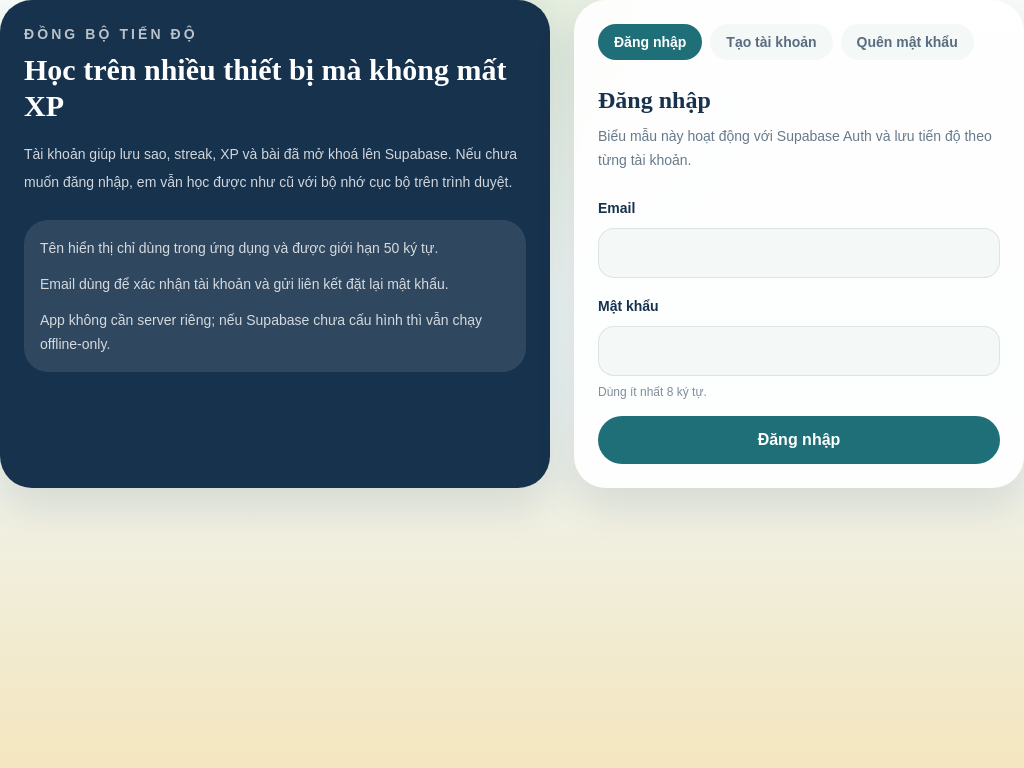
Test: AuthRoute › chế độ tạo tài khoản gọi signUp và giữ nguyên trang khi cần xác nhận email
Click the button "Tạo tài khoản". click: click(771, 42)
box: [710,24,832,60]
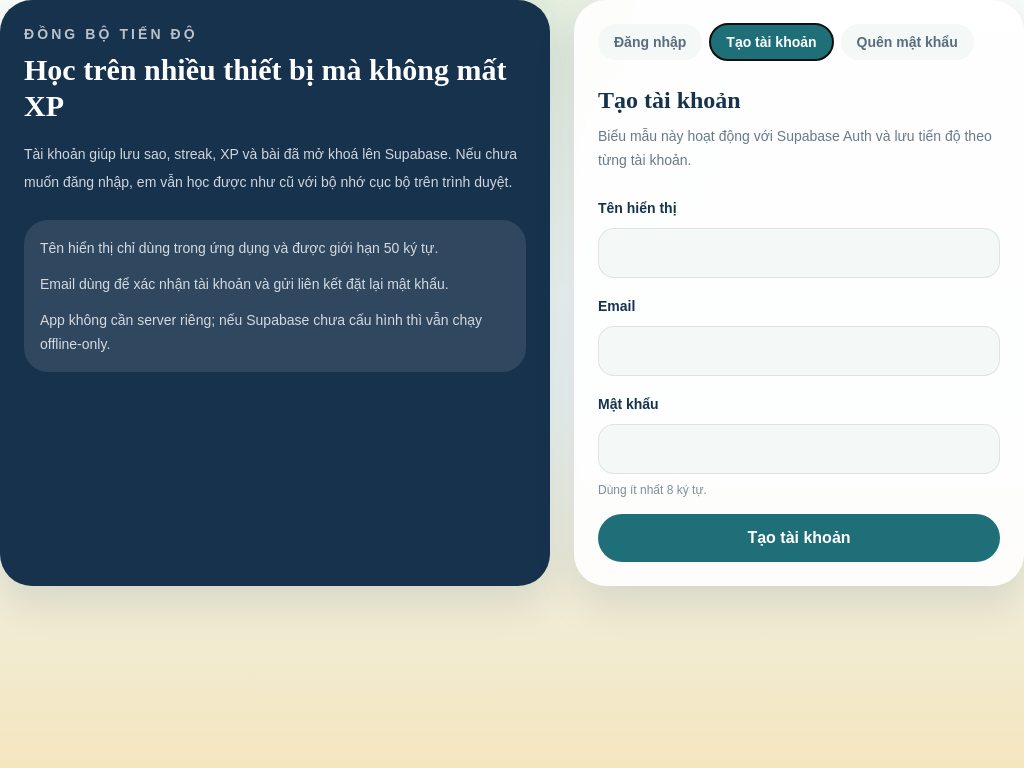
Type "Lan Anh" into the field labelled "Tên hiển thị". click: (799, 253)
box: [598,228,1000,278]
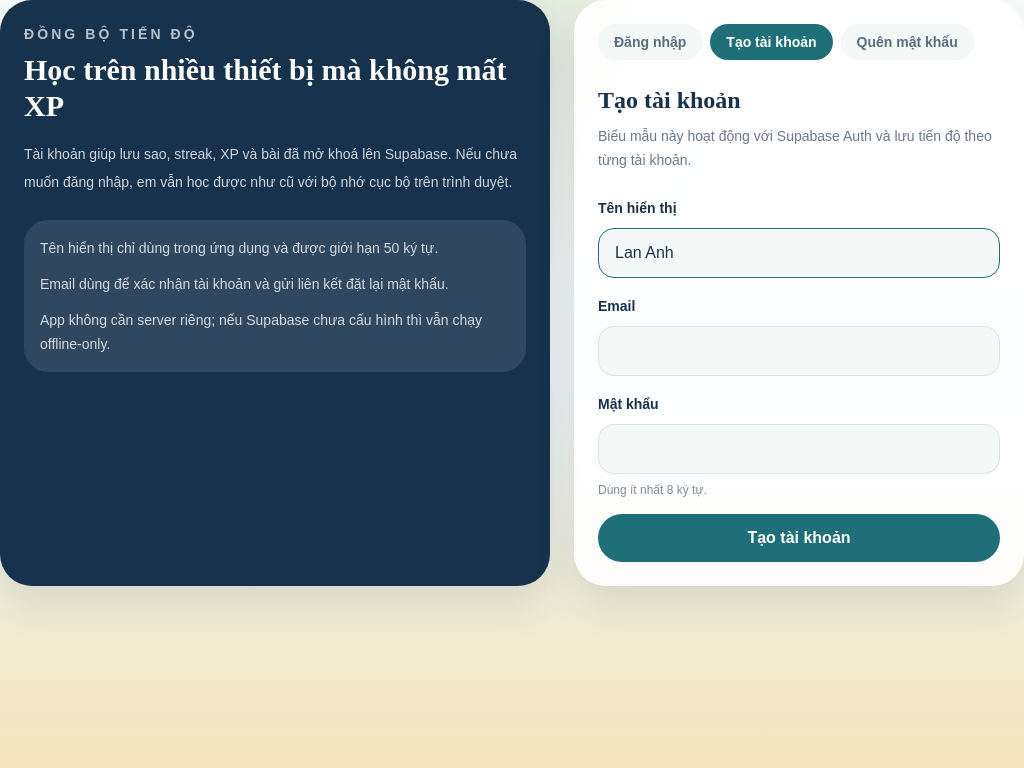
Type "lan.anh@example.com" into the field labelled "Email". click: (799, 351)
box: [598,326,1000,376]
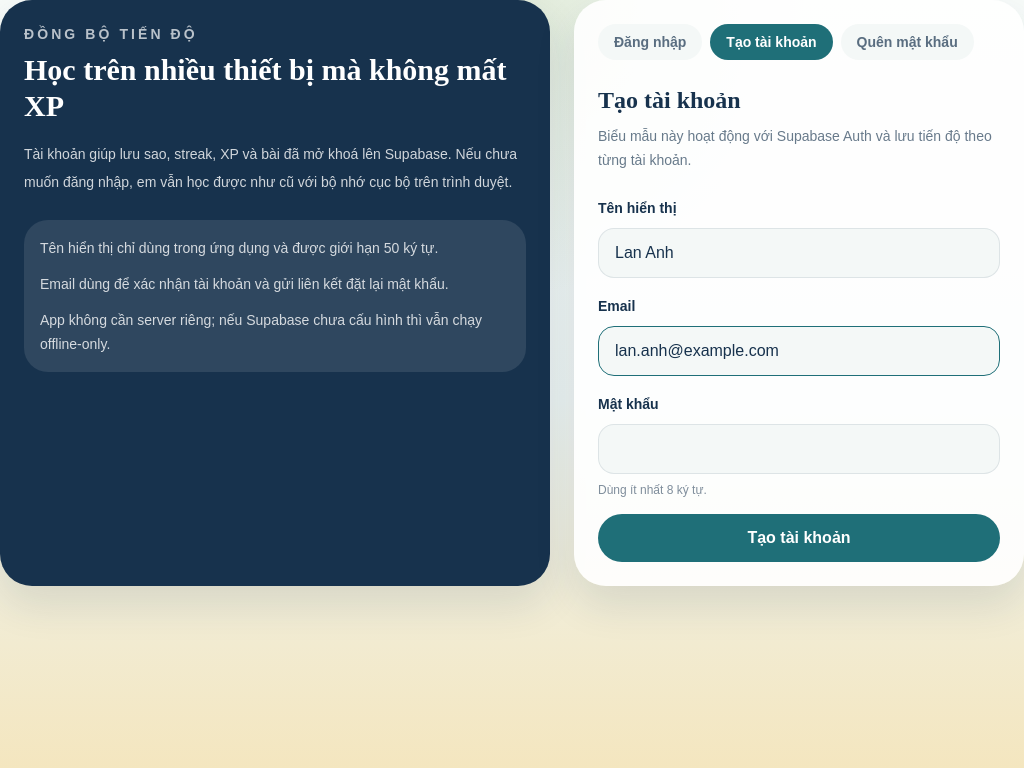
Type "12345678" into the password field labelled "Mật khẩu Dùng ít nhất 8 ký tự.". click: (799, 449)
box: [598,424,1000,474]
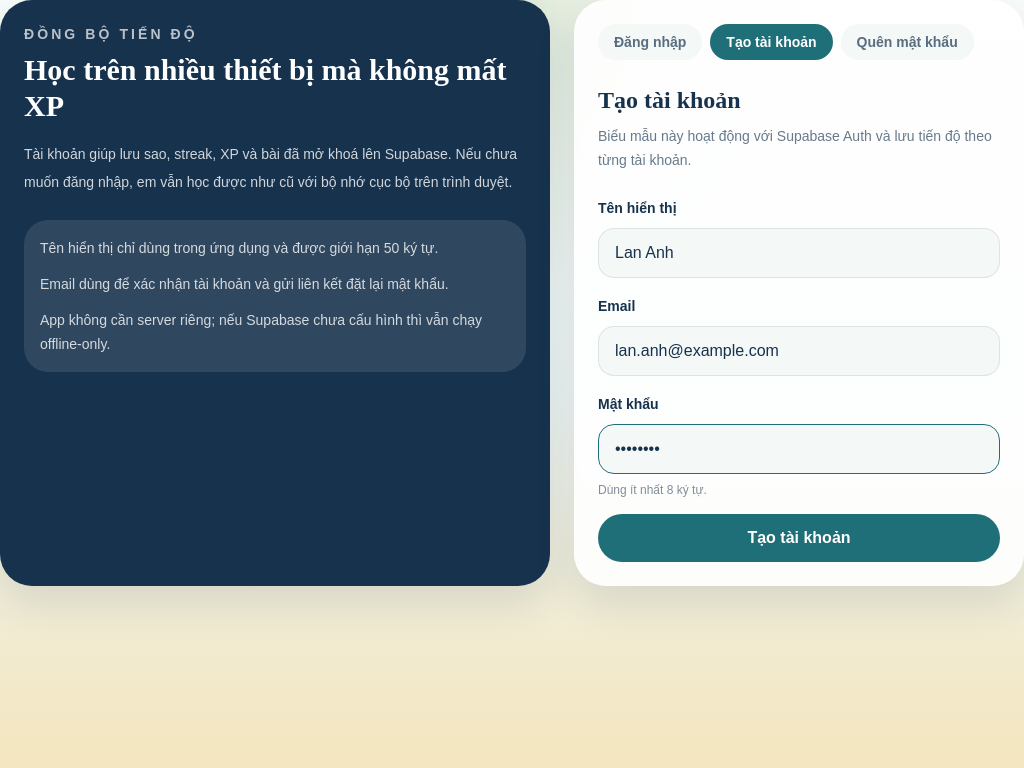
Click the button "Tạo tài khoản" below "Dùng ít nhất 8 ký tự.". click: click(799, 538)
box: [598,514,1000,562]
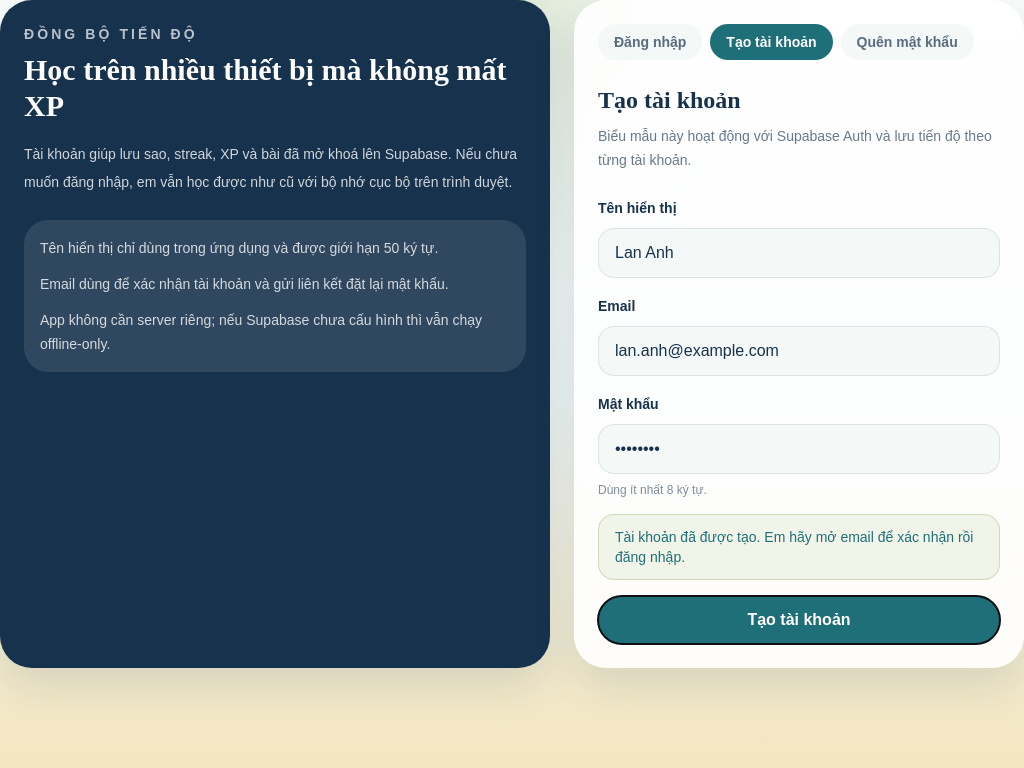
Expected: the heading "Tạo tài khoản" is shown, [598,87,741,113]
Expected: the text "Tài khoản đã được tạo. Em hãy mở email để xác nhận rồi đăng nhập." is shown, [598,514,1000,580]
